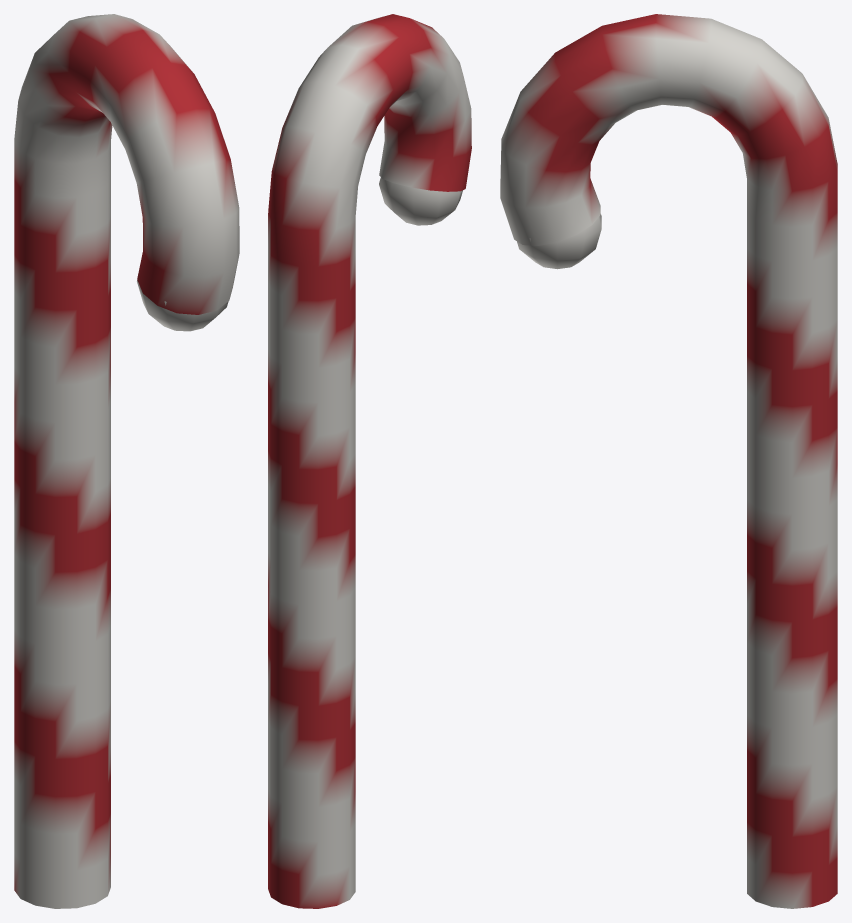
Rendered from Xmas_CandyCane.fbx.
The picture shows the model from 3 angles, left to right: view 1: azimuth 30°, elevation 25°; view 2: azimuth 150°, elevation 25°; view 3: azimuth 270°, elevation 25°; orthographic projection. The views are drawn at different scales.
Parts seen in each view (by area): view 1: Xmas_CandyCane; view 2: Xmas_CandyCane; view 3: Xmas_CandyCane.
Boxes of the visible parts, x1=… form: Xmas_CandyCane: x1=14, y1=14, x2=239, y2=908; Xmas_CandyCane: x1=268, y1=14, x2=471, y2=908; Xmas_CandyCane: x1=500, y1=14, x2=837, y2=908.
Size of the model in its own units: 1.2 by 12.38 by 4.35.
